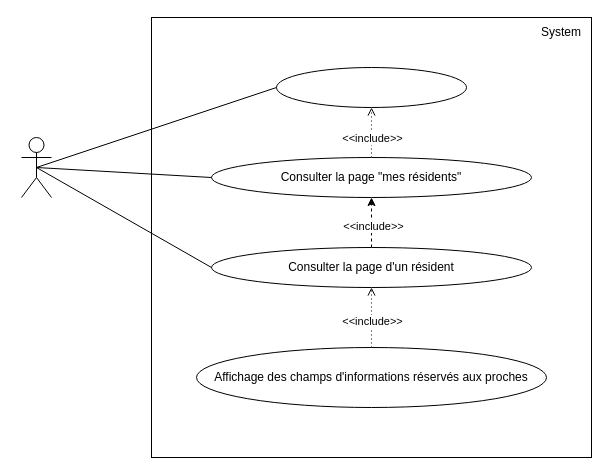
The diagram is 609 pixels wide and 475 high, and some of its shapes have lost their labels. Here are the shapes that lost their labels. From the top down, the centre of each, then its label:
At point 371,87: "Connexion".
At point 36,167: "Proche".
